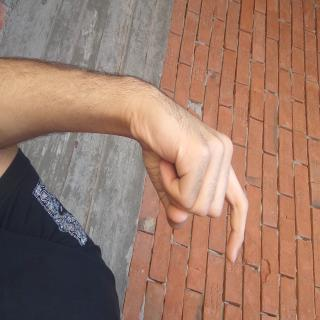RAA: (42, 90, 202, 271)
